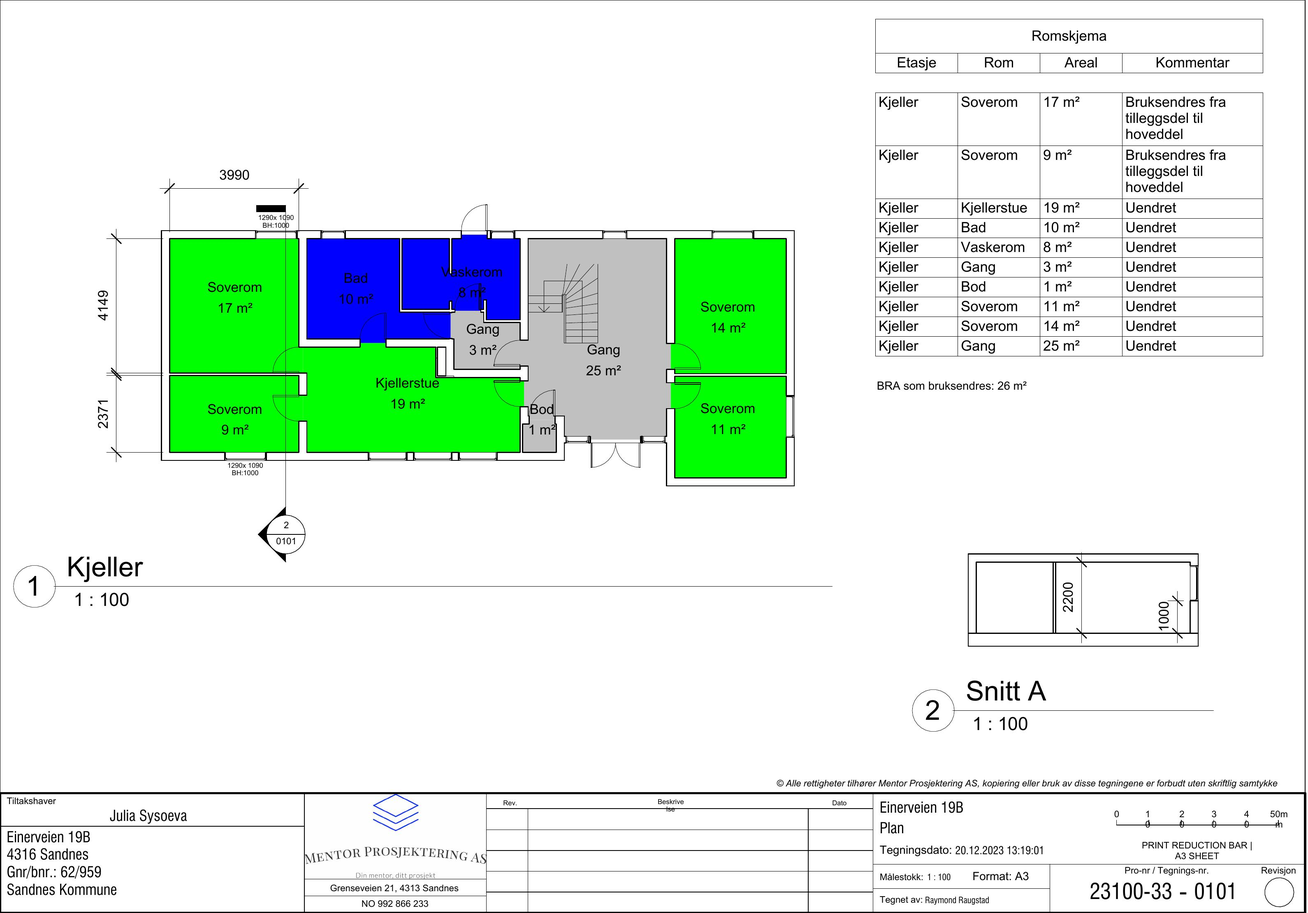plantegning: (160, 202, 798, 491)
snitt: (964, 550, 1205, 653)
